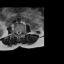CCS_normal: (18, 29, 19, 36)
LFS_normal: (21, 29, 23, 34)
LLS_normal: (19, 29, 21, 35)
RFS_normal: (14, 29, 16, 34)
RLS_normal: (16, 29, 18, 35)
